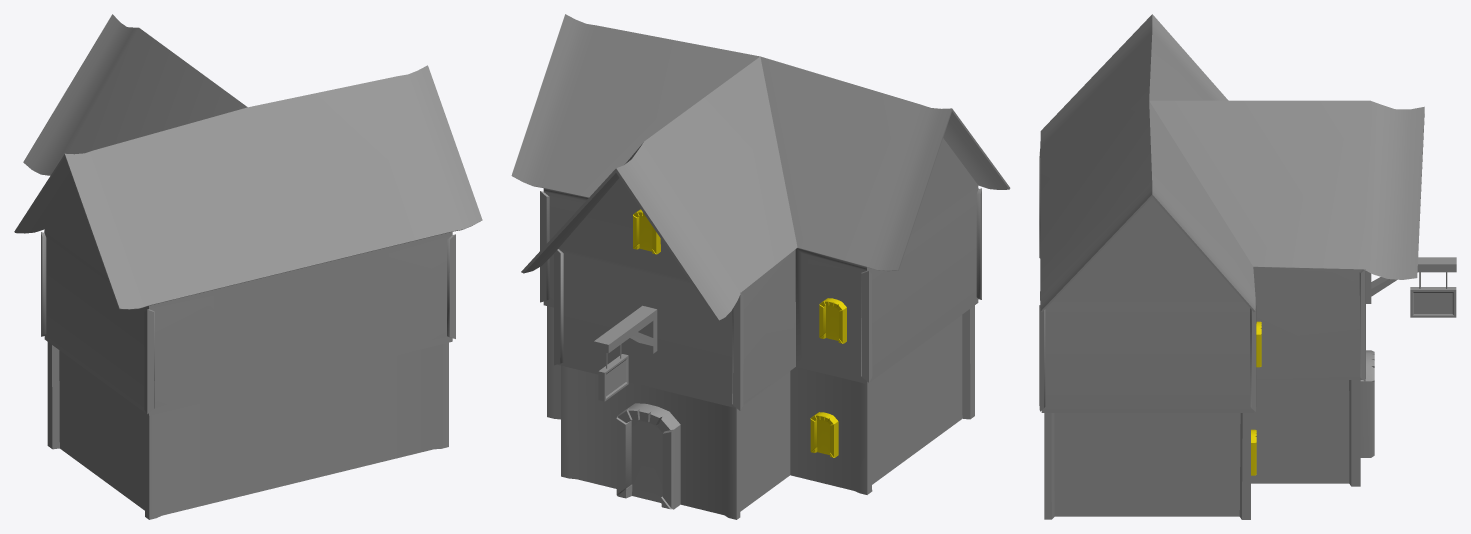
File: Building3.FBX
3 renders of one model, left to right at view 1: azimuth 30°, elevation 25°; view 2: azimuth 150°, elevation 25°; view 3: azimuth 270°, elevation 25°, orthographic. The views are drawn at different scales.
Visible parts, largest first — view 1: Box016; view 2: Box016, Box017, Box023, Box027, Box024, Box028; view 3: Box016, Box023, Box017.
Boxes of the visible parts, x1,y1,x2,y2 form: Box016: [14, 14, 482, 519]; Box016: [511, 14, 1010, 519]; Box017: [616, 403, 680, 509]; Box023: [594, 305, 657, 401]; Box027: [810, 412, 838, 457]; Box024: [819, 298, 846, 343]; Box028: [633, 209, 660, 254]; Box016: [1039, 14, 1424, 519]; Box023: [1366, 257, 1456, 317]; Box017: [1360, 350, 1374, 457].
Bounding box in the file's own units: 25.34 × 22.58 × 24.78.
